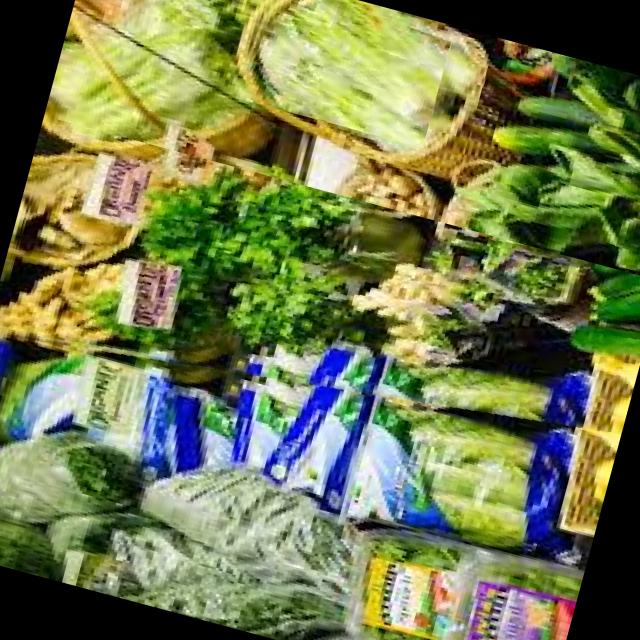Organic: (0, 115, 640, 496), (446, 35, 640, 277), (232, 0, 455, 146)
